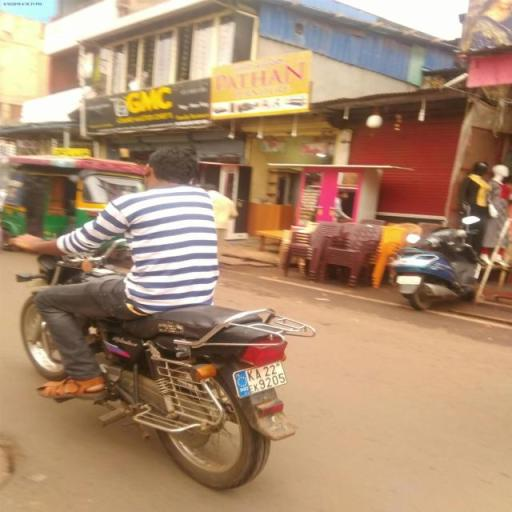bike: (8, 142, 324, 490)
numberplate: (227, 352, 298, 400)
using mobile: (190, 177, 202, 188)
